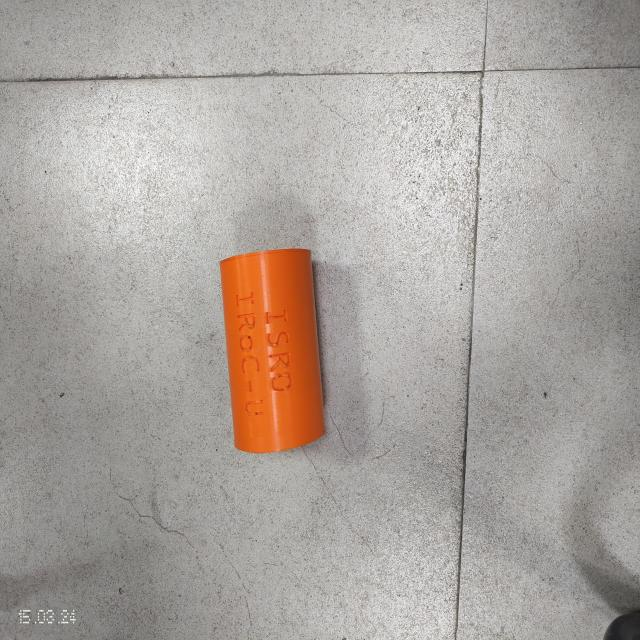Cylinder: (219, 247, 326, 453)
